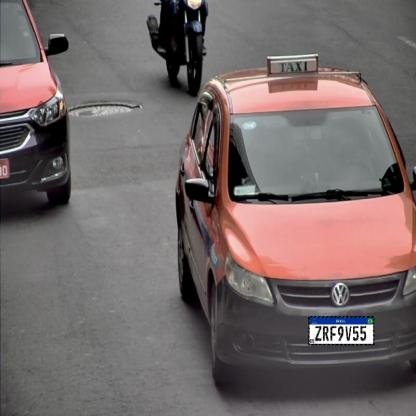PlacaM: (309, 316, 374, 345)
